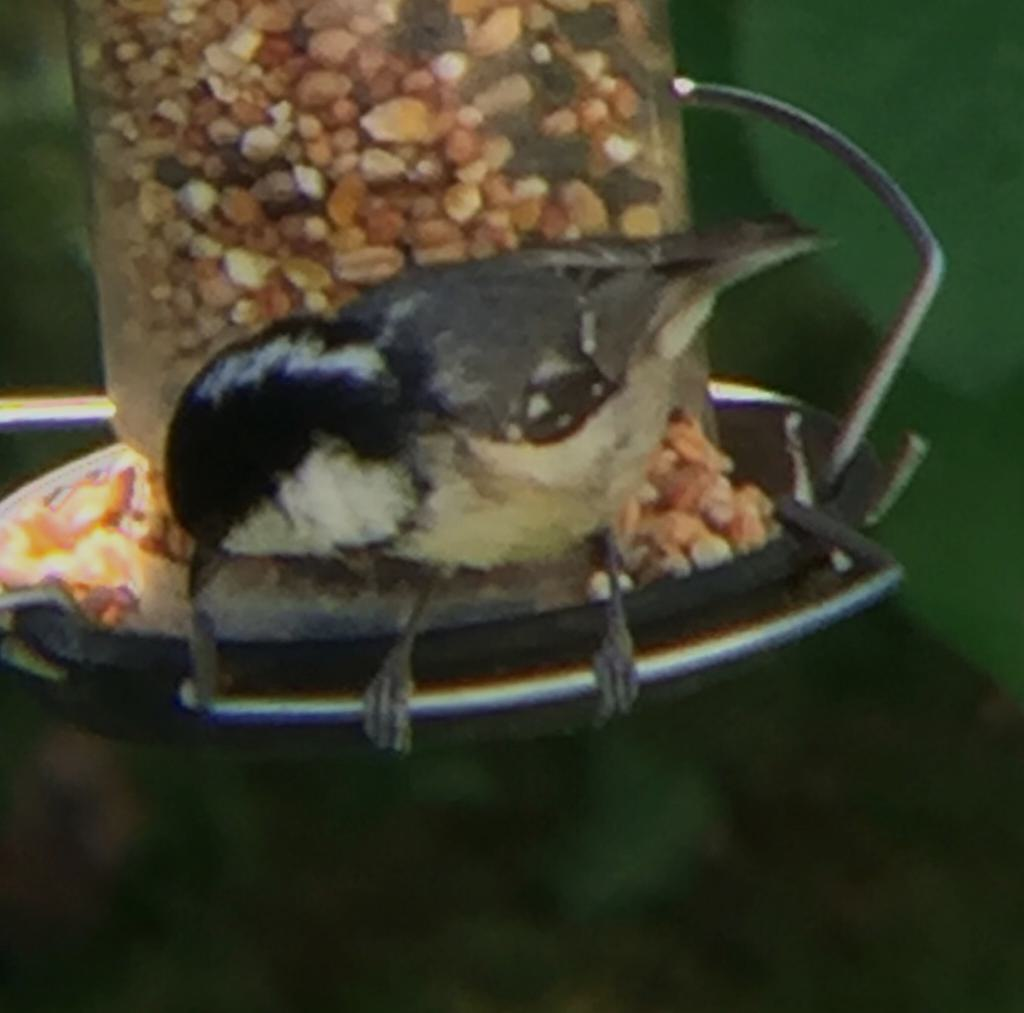PeriparusAter: (161, 199, 844, 761)
